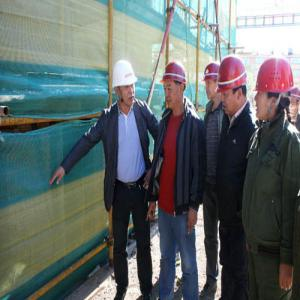red: (256, 55, 294, 121), (217, 53, 251, 115), (161, 62, 188, 112), (203, 62, 221, 103), (291, 86, 300, 115)
white: (113, 59, 138, 108)
